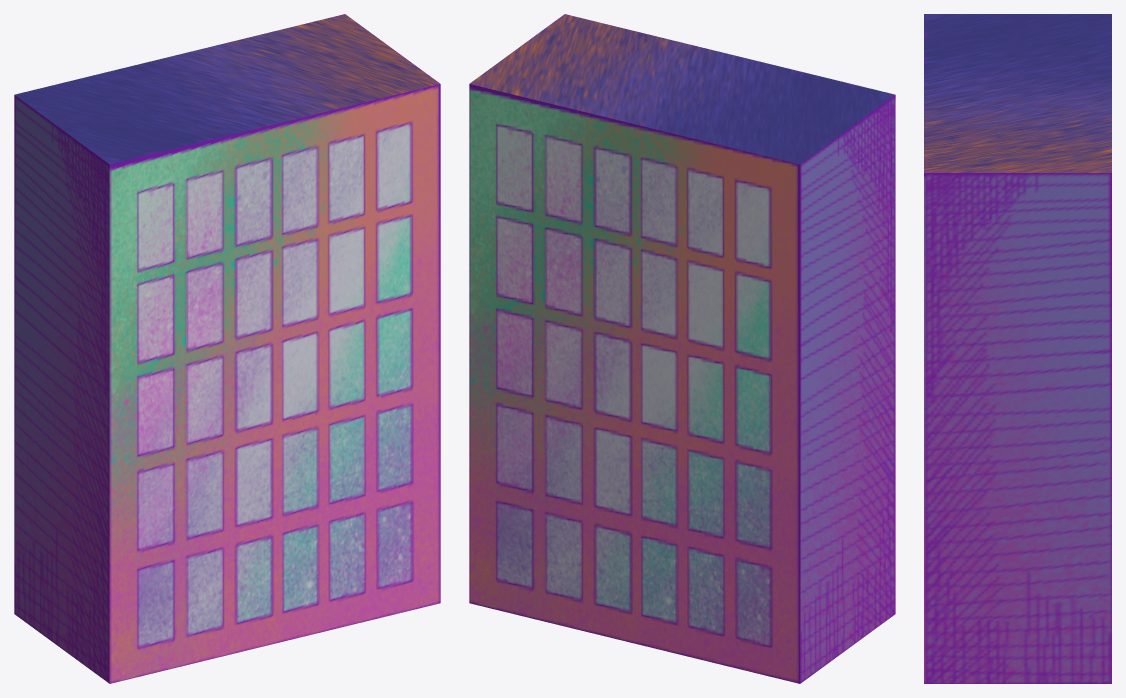
Rendered from Build_C_Top.obj.
3 renders of one model, left to right at view 1: azimuth 30°, elevation 25°; view 2: azimuth 150°, elevation 25°; view 3: azimuth 270°, elevation 25°, orthographic.
Parts seen in each view (by area): view 1: Build_C_Top; view 2: Build_C_Top; view 3: Build_C_Top.
Part boxes in pixels (x1,y1,x2,y2): Build_C_Top: (14, 14, 440, 683); Build_C_Top: (469, 14, 895, 683); Build_C_Top: (924, 14, 1111, 683).
Size of the model in its own units: 40 by 60 by 20.
Materials: 1 (1 with a texture image).
